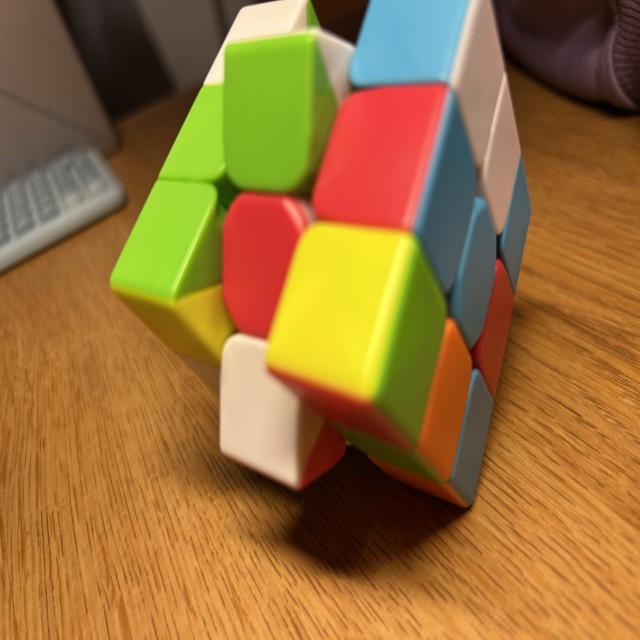Rubiks Cube: (109, 0, 533, 508)
